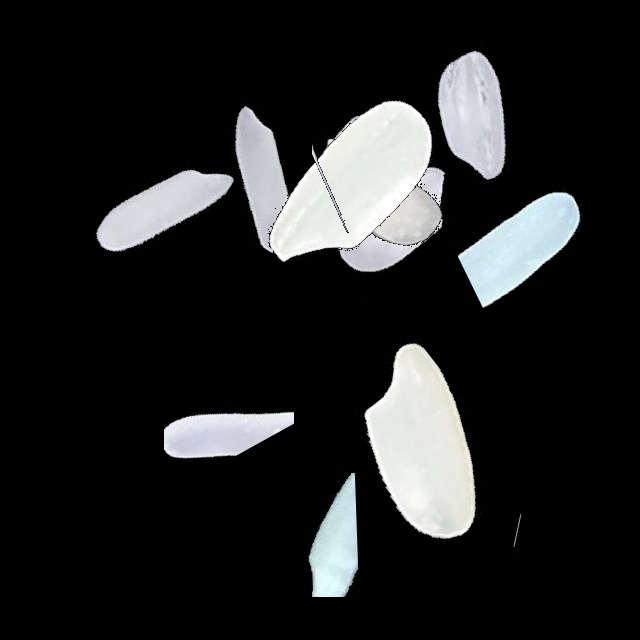Broken: (385, 20, 635, 194), (234, 39, 394, 289), (458, 113, 617, 363), (267, 118, 517, 270), (164, 259, 294, 509), (170, 473, 420, 597), (312, 17, 418, 267), (436, 367, 525, 617), (302, 259, 552, 344)
Full: (38, 86, 288, 336), (273, 94, 523, 344), (301, 321, 551, 571), (253, 73, 503, 323), (136, 57, 386, 307), (227, 65, 477, 315)
